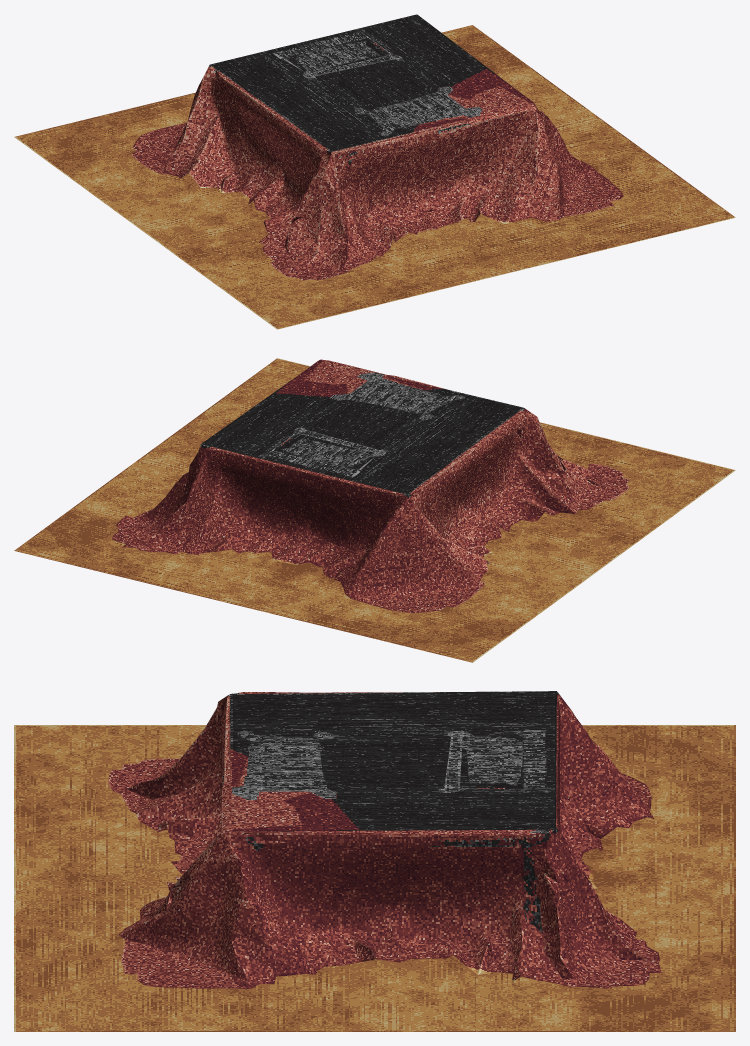
Rendered from kotatsu.glb.
3 views of the same model, one above another, from view 1: azimuth 30°, elevation 25°; view 2: azimuth 150°, elevation 25°; view 3: azimuth 270°, elevation 25° (orthographic). The views are drawn at different scales.
Visible parts, largest first — view 1: mesh; view 2: mesh; view 3: mesh.
Part boxes in pixels (x1,y1,x2,y2): mesh: (14, 14, 735, 329); mesh: (14, 358, 735, 662); mesh: (14, 691, 735, 1031).
Bounding box in the file's own units: 2.41 × 0.45 × 2.4.
1 material, 1 textured.
